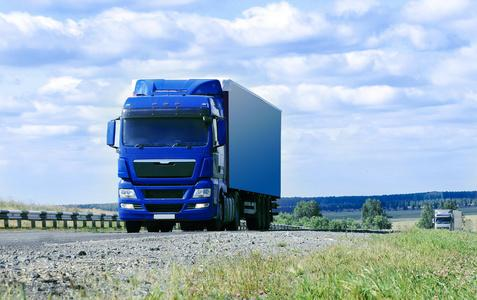卡车: (103, 70, 303, 236)
